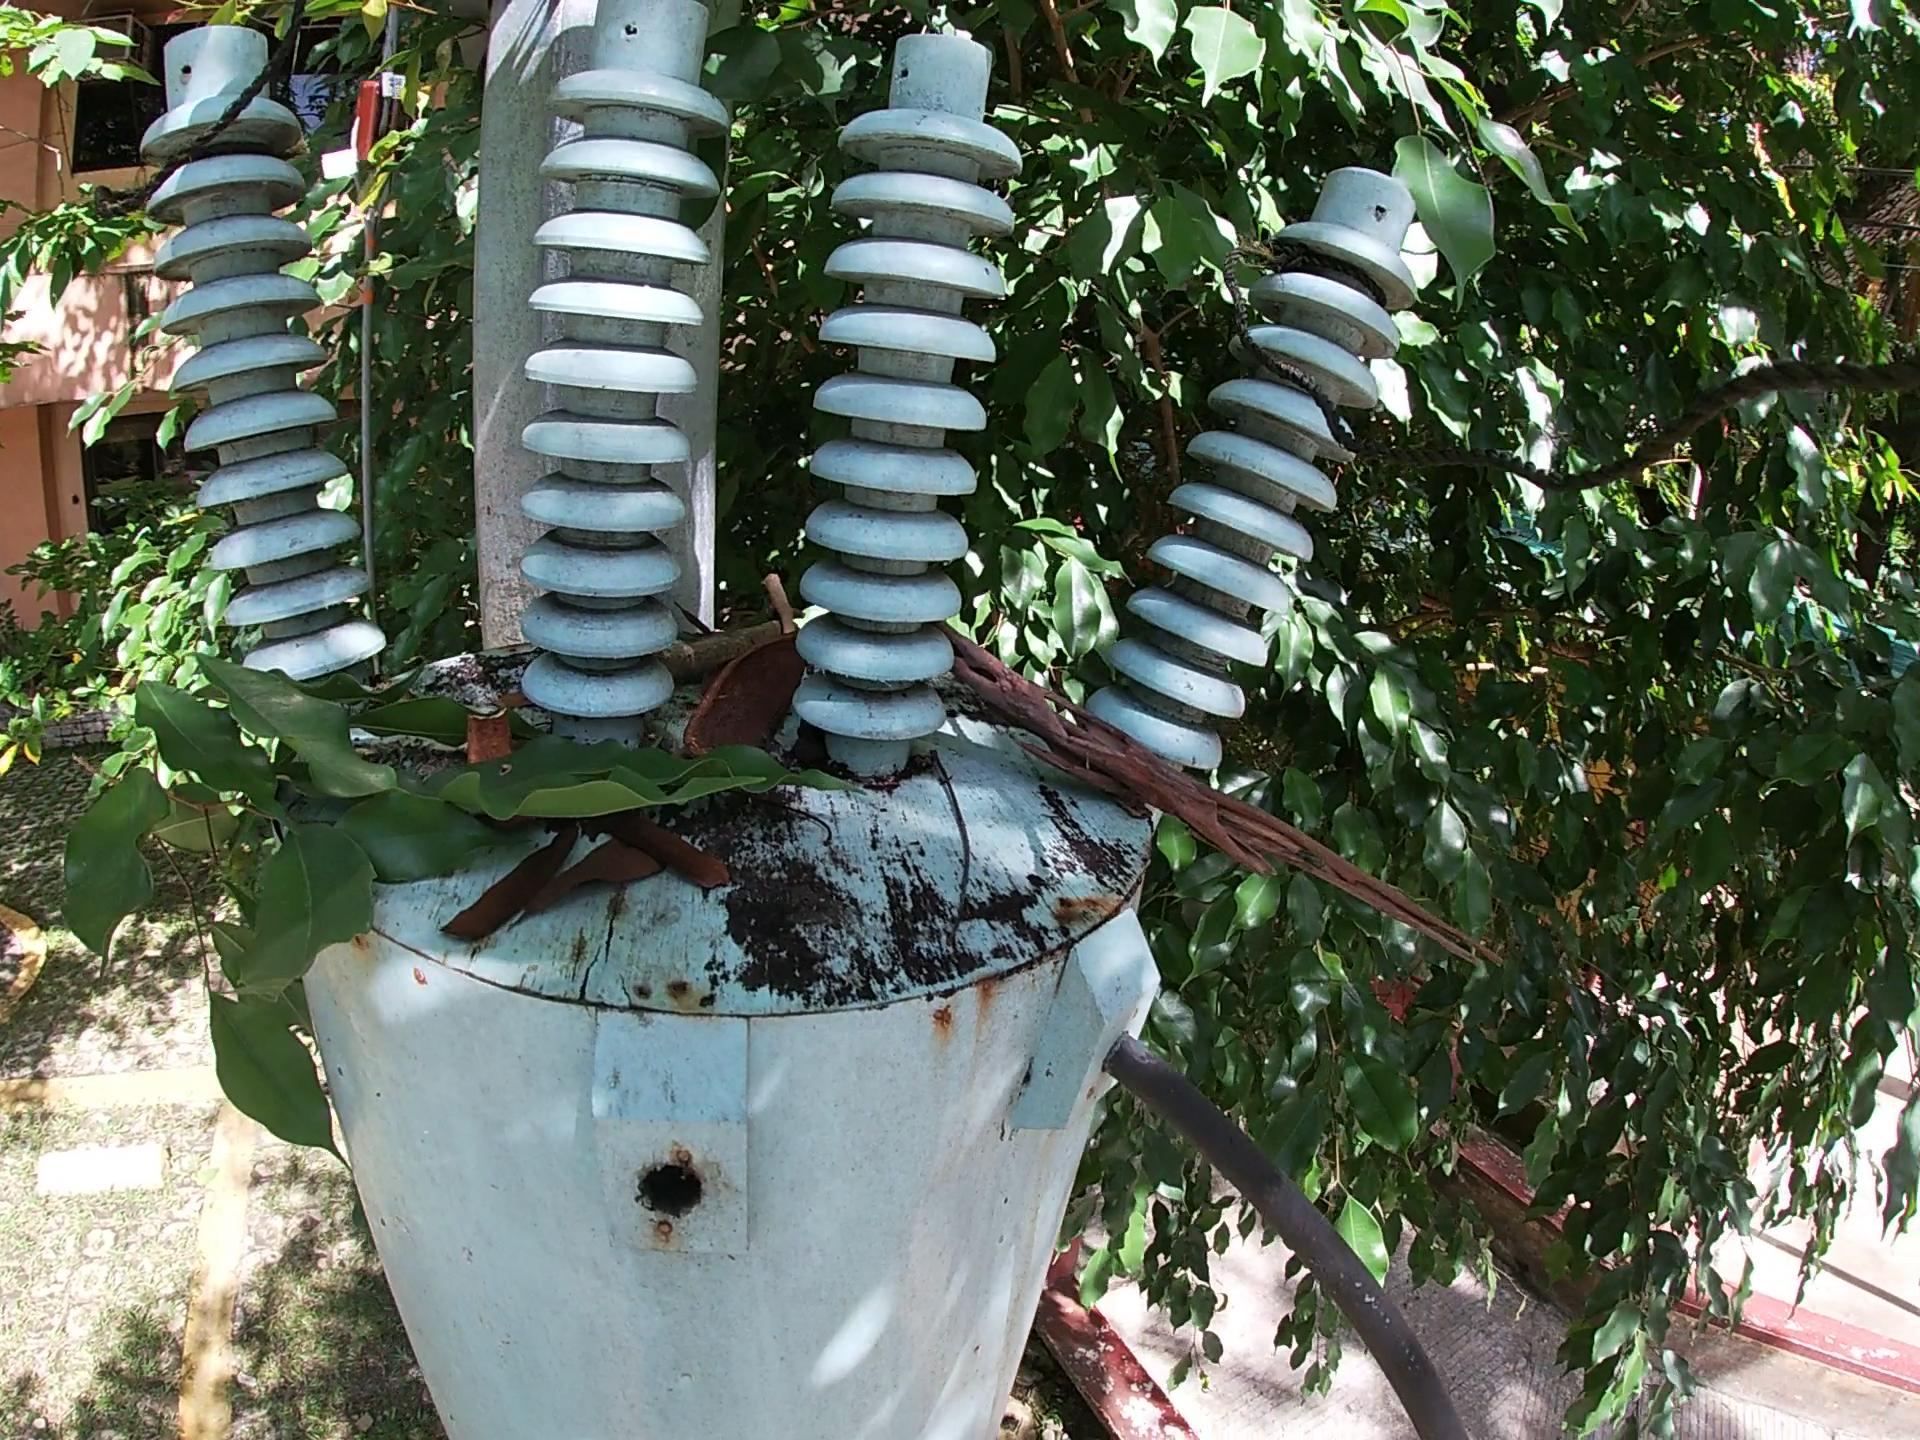branch with leaves: (54, 643, 872, 1181)
leaf: (428, 824, 581, 951), (509, 832, 670, 933), (596, 809, 736, 895)
mahogany fruit: (674, 629, 810, 762), (463, 706, 516, 770)
tree branch: (930, 619, 1513, 977), (661, 616, 776, 693), (756, 570, 804, 634)
